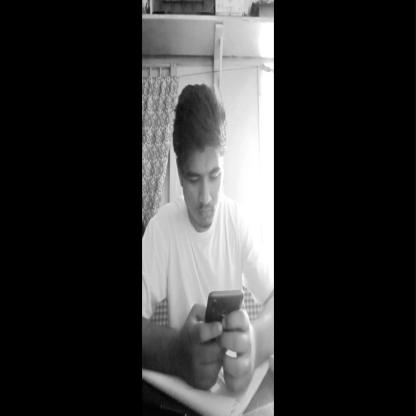Normal: (170, 84, 230, 232)
